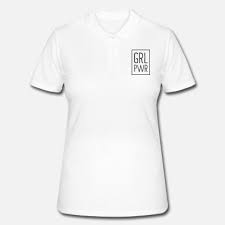S_polo shirt: (29, 12, 196, 216)
